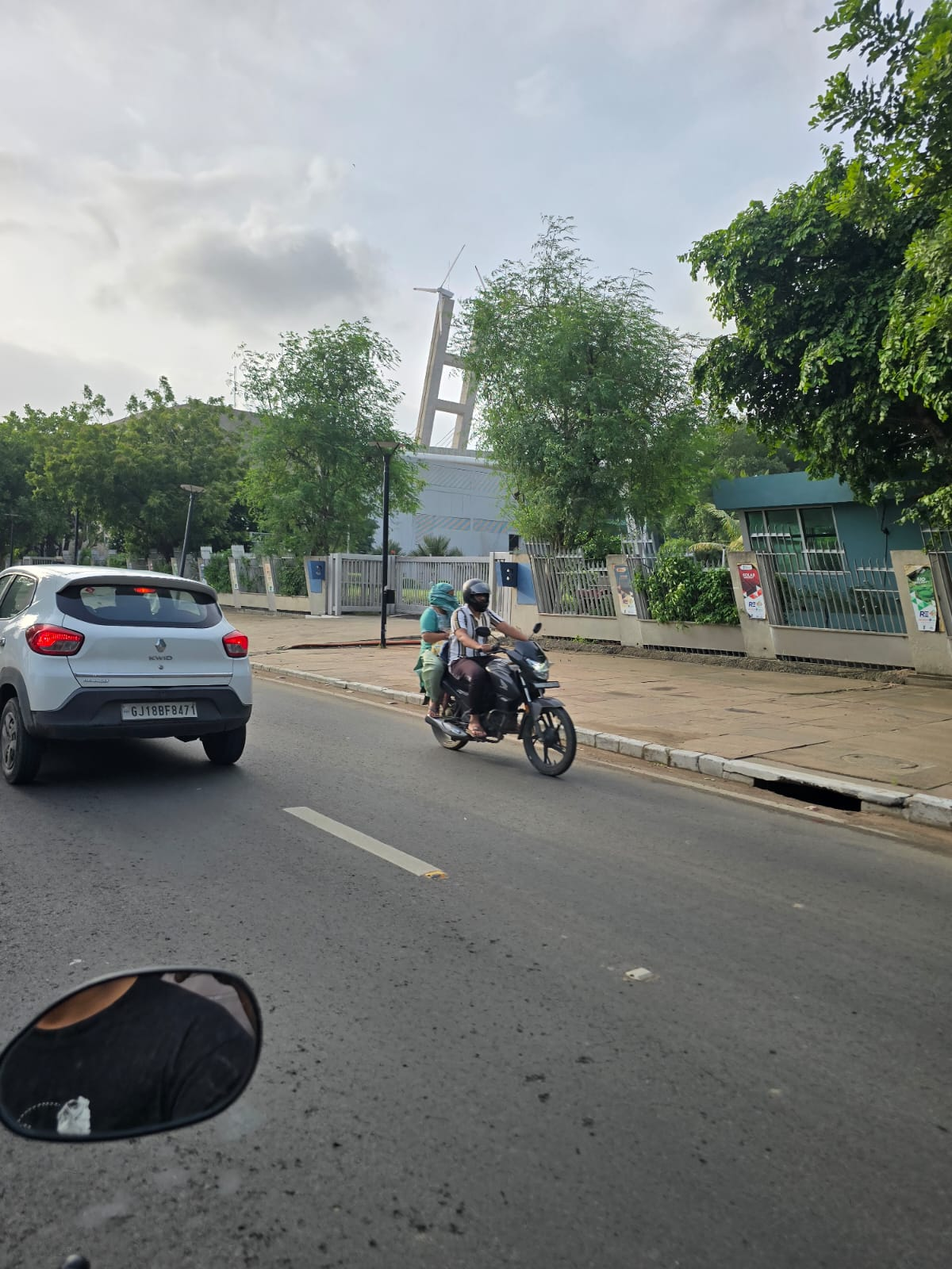BikeWithRider: (411, 572, 586, 781)
Helmet: (459, 577, 495, 612)
NoHelmet: (428, 578, 458, 611)
